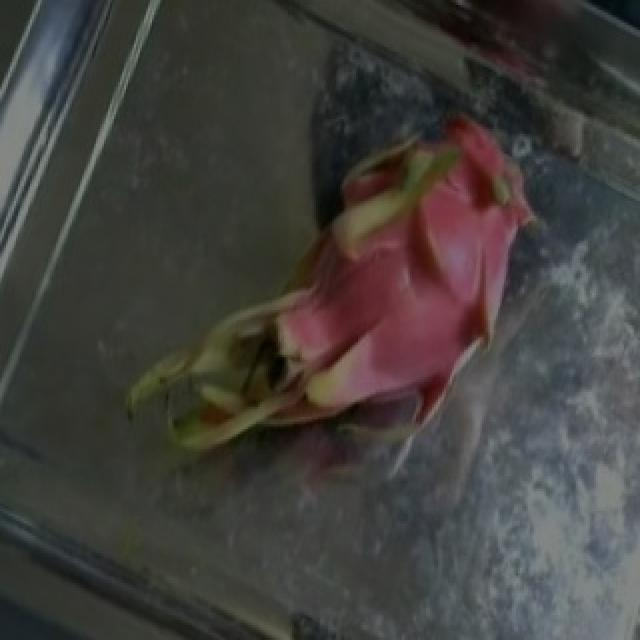fruit: (182, 15, 604, 466)
